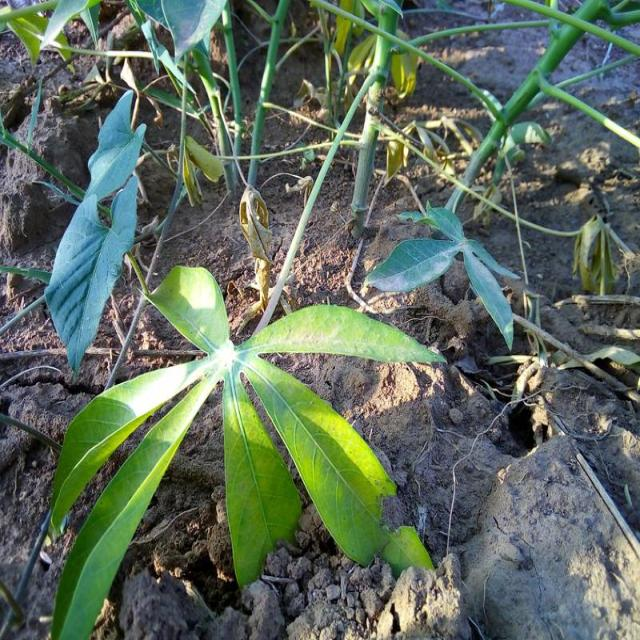cassava leaf: (47, 262, 447, 638), (44, 88, 148, 376)
